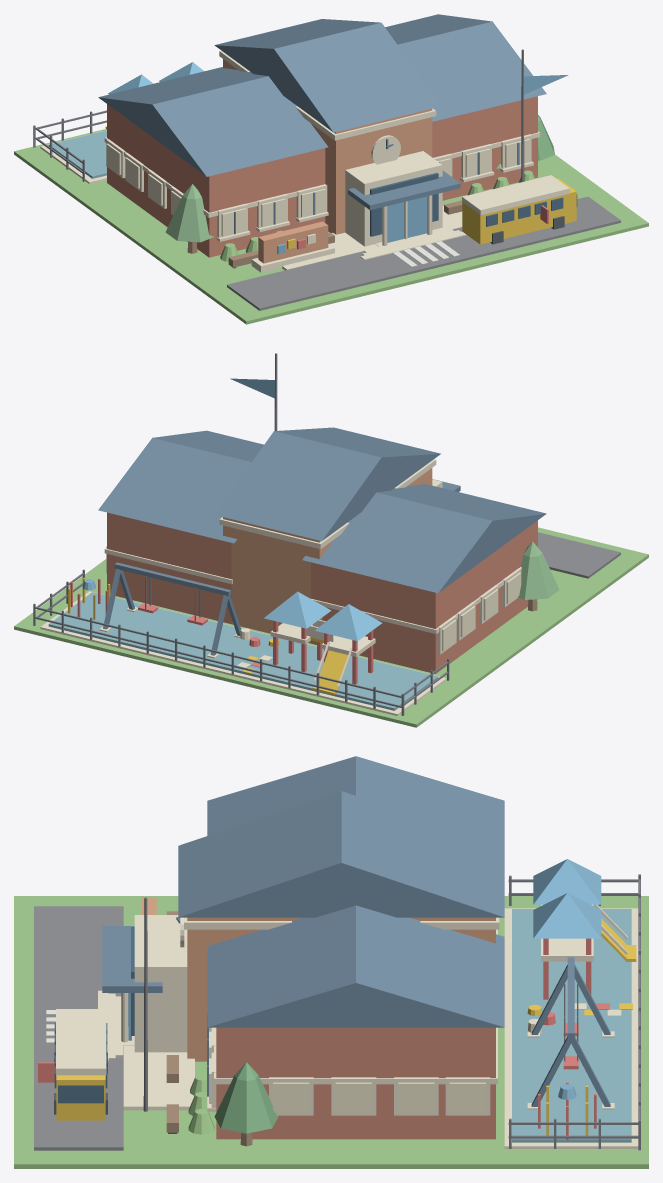
The model's file is elementary-school.glb.
3 views of the same model, one above another, from view 1: azimuth 30°, elevation 25°; view 2: azimuth 150°, elevation 25°; view 3: azimuth 270°, elevation 25° (orthographic). The views are drawn at different scales.
Visible parts, largest first — view 1: school_center_roof.001, school_lawn.001, school_wing_roof.002, school_classroom_wing.002, school_wing_roof.003, school_bus_loop.001, school_classroom_wing.003, school_center_hall.001, school_entry.001, school_bus_body.001, school_bus_roof.001, school_sign_face.001 (+17 smaller); view 2: school_center_roof.001, school_wing_roof.002, school_lawn.001, school_classroom_wing.002, school_play_mat.001, school_wing_roof.003, school_classroom_wing.003, school_center_hall.001, school_play_border.001, school_bus_loop.001, blob.054, school_play_roof.002 (+9 smaller); view 3: school_center_roof.001, school_wing_roof.003, school_lawn.001, school_classroom_wing.003, school_play_mat.001, school_bus_loop.001, school_wing_roof.002, school_entry.001, school_play_border.001, school_center_hall.001, school_front_walk.001, school_bus_roof.001 (+20 smaller).
Part boxes in pixels (x1,y1,x2,y2): school_center_roof.001: (214, 19, 440, 132); school_lawn.001: (14, 129, 648, 324); school_wing_roof.002: (98, 67, 328, 176); school_classroom_wing.002: (107, 104, 325, 257); school_wing_roof.003: (385, 14, 546, 121); school_bus_loop.001: (227, 196, 620, 310); school_classroom_wing.003: (432, 96, 537, 200); school_center_hall.001: (223, 59, 432, 234); school_entry.001: (345, 151, 442, 246); school_bus_body.001: (462, 178, 576, 244); school_bus_roof.001: (462, 175, 569, 215); school_sign_face.001: (258, 221, 328, 263); school_center_roof.001: (214, 427, 440, 540); school_wing_roof.002: (302, 484, 546, 592); school_lawn.001: (14, 527, 648, 727); school_classroom_wing.002: (311, 520, 537, 673); school_play_mat.001: (48, 592, 438, 710); school_wing_roof.003: (98, 430, 263, 543); school_classroom_wing.003: (107, 512, 231, 624); school_center_hall.001: (223, 468, 432, 643); school_play_border.001: (40, 591, 446, 715); school_bus_loop.001: (538, 532, 620, 578); blob.054: (518, 553, 559, 599); school_play_roof.002: (315, 604, 382, 641); school_center_roof.001: (178, 791, 504, 917); school_wing_roof.003: (207, 905, 504, 1027); school_lawn.001: (14, 896, 648, 1168); school_classroom_wing.003: (216, 1027, 495, 1139); school_play_mat.001: (512, 909, 631, 1142); school_bus_loop.001: (34, 906, 123, 1150); school_wing_roof.002: (207, 756, 504, 845); school_entry.001: (134, 915, 187, 1052); school_play_border.001: (504, 908, 638, 1148); school_center_hall.001: (187, 917, 495, 1061); school_front_walk.001: (123, 1045, 194, 1110); school_bus_roof.001: (56, 1009, 106, 1075).
Size of the model in its own units: 28.4 by 10.8 by 28.4.
